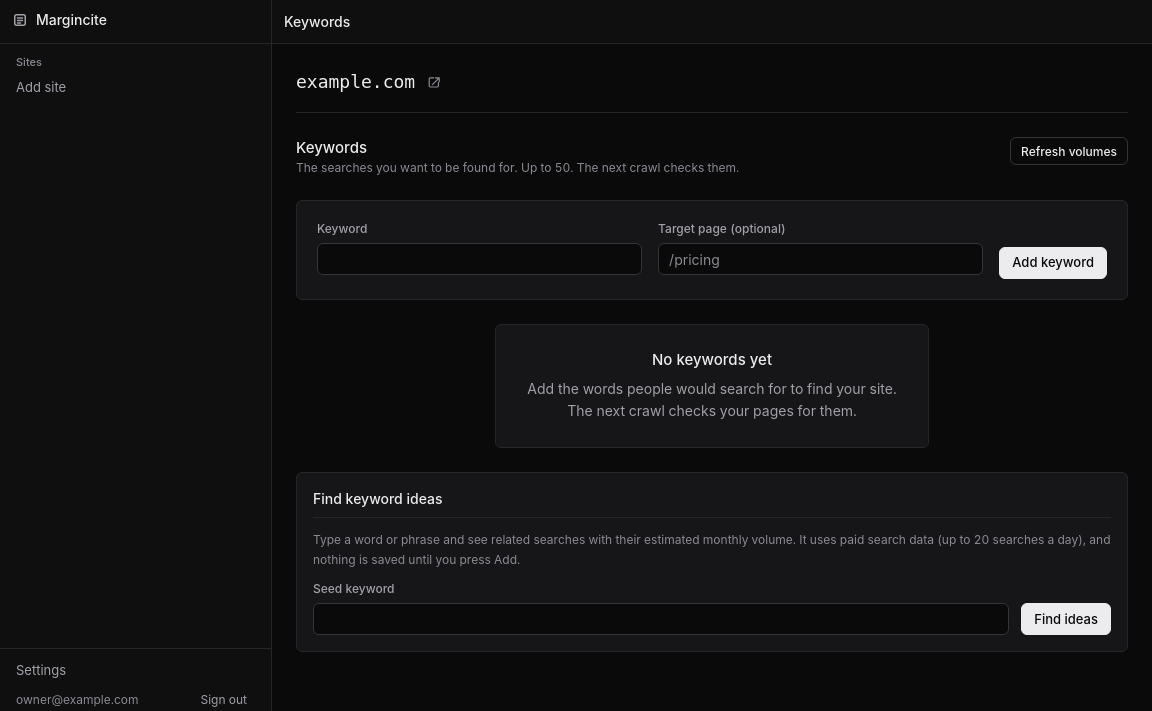
Test: adding a keyword sends it and shows it in the list
Type "  road maps " into the field labelled "Keyword" at {"x": 480, "y": 259}, box x1=317 y1=243 x2=642 y2=275
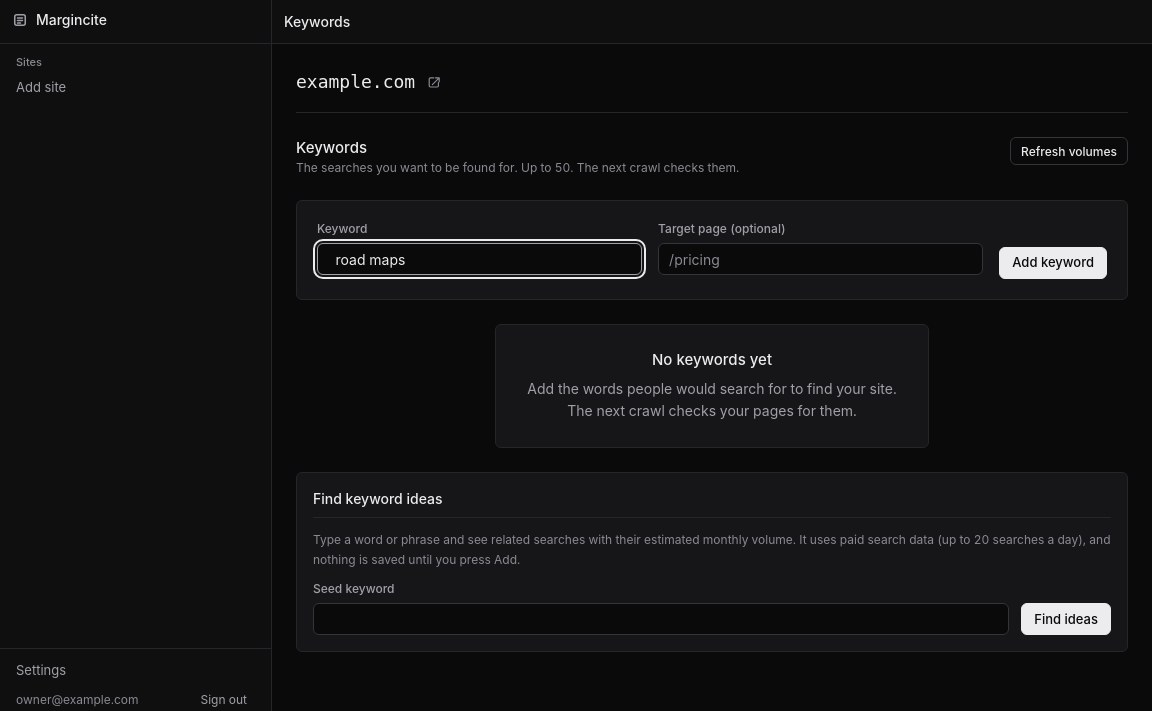
Type "/maps" into the field labelled "Target page (optional)" at {"x": 821, "y": 259}, box x1=658 y1=243 x2=983 y2=275
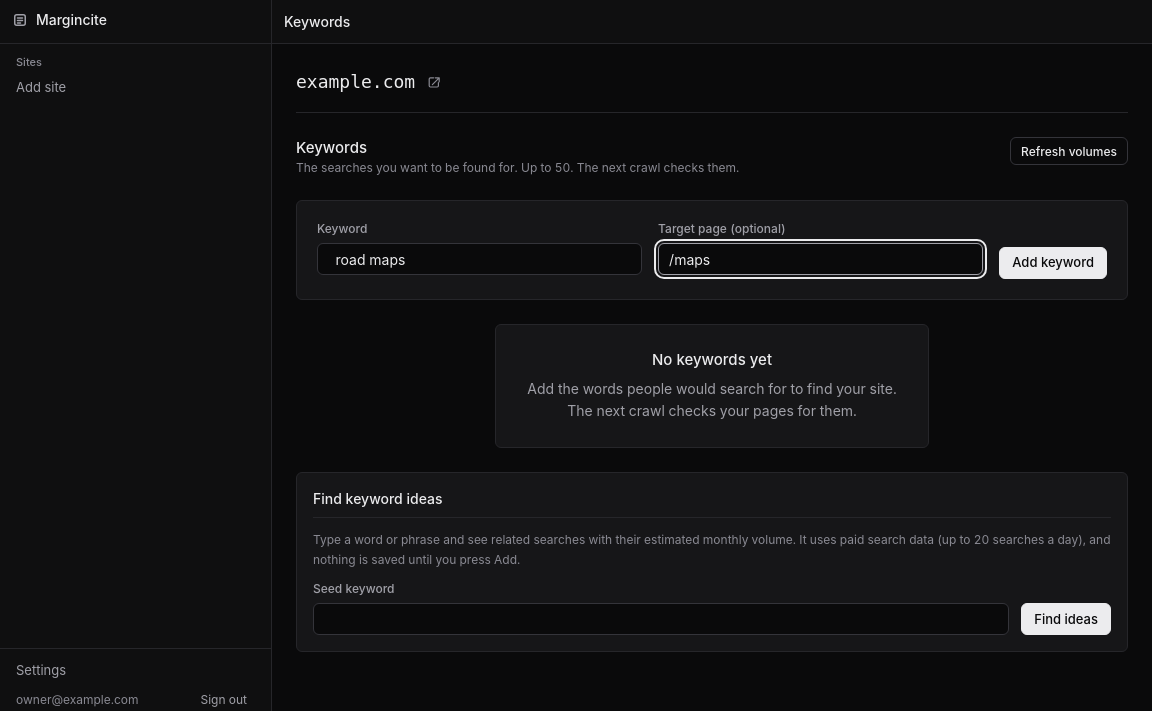
Click the button "Add keyword" at {"x": 1053, "y": 263}, box x1=999 y1=247 x2=1107 y2=279
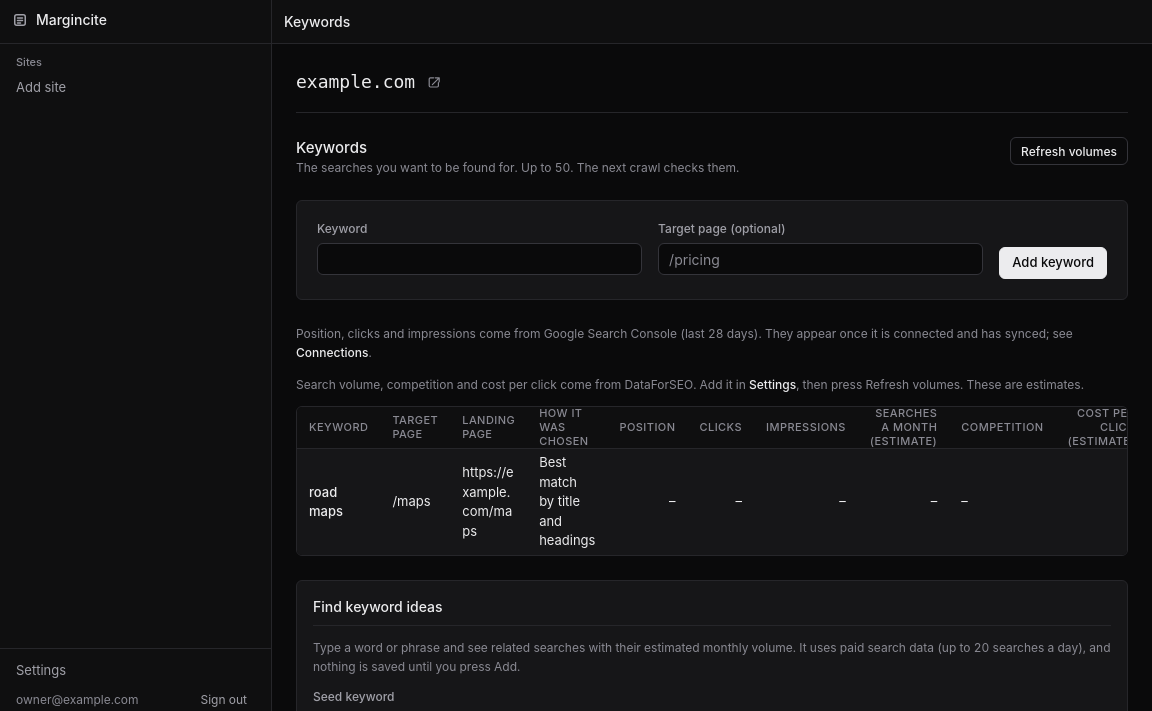
Expected: the table named "Target keywords" is shown, x1=297 y1=407 x2=1128 y2=555
Expected: the field labelled "Keyword" is empty, x1=317 y1=243 x2=642 y2=275
